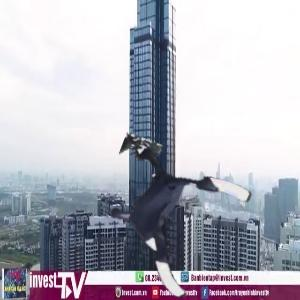drone: (99, 152, 240, 293)
